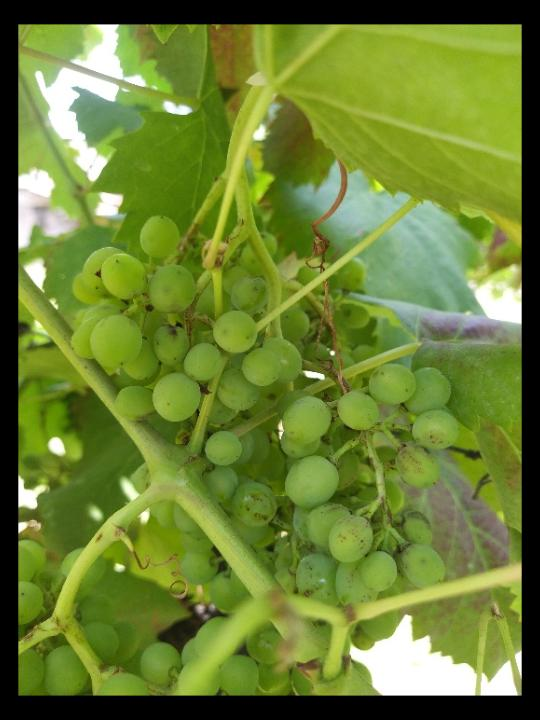grape: (62, 211, 458, 656)
